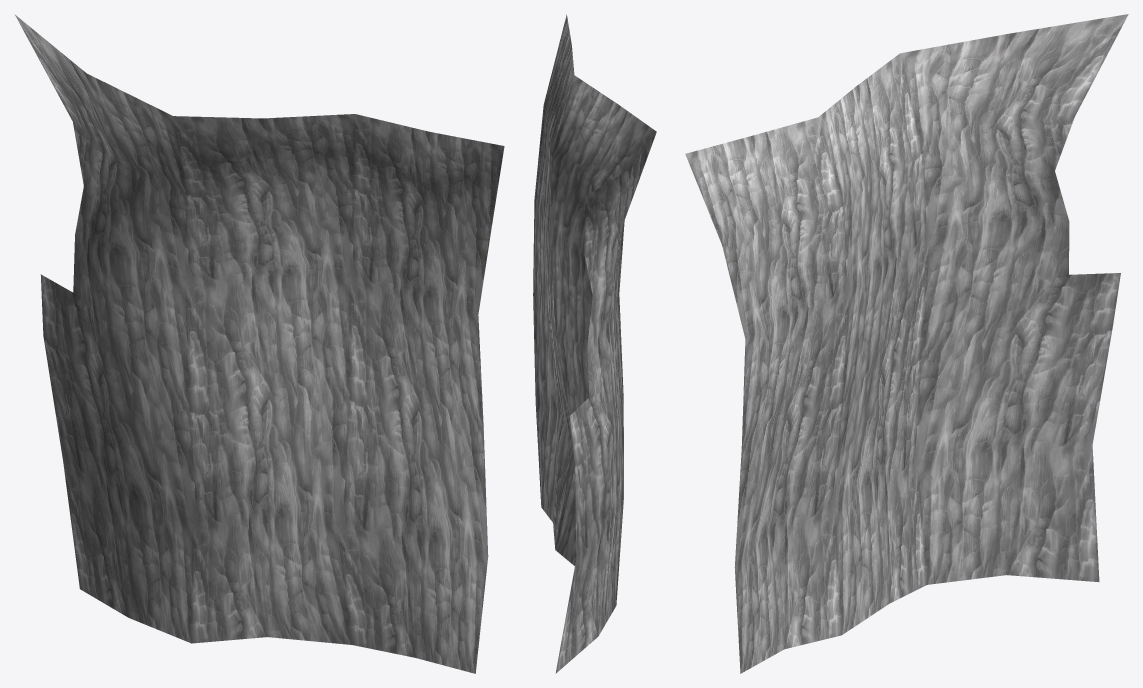
Rendered from SWORDLIGHT20_PS-AREA03_204.fbx.
3 renders of one model, left to right at view 1: azimuth 30°, elevation 25°; view 2: azimuth 150°, elevation 25°; view 3: azimuth 270°, elevation 25°, orthographic. The views are drawn at different scales.
Parts seen in each view (by area): view 1: SWORDLIGHT20_PS-AREA03_204; view 2: SWORDLIGHT20_PS-AREA03_204; view 3: SWORDLIGHT20_PS-AREA03_204.
Part boxes in pixels (box(x1,y1,x2,y2)): SWORDLIGHT20_PS-AREA03_204: box(15, 15, 504, 673); SWORDLIGHT20_PS-AREA03_204: box(533, 14, 656, 673); SWORDLIGHT20_PS-AREA03_204: box(685, 14, 1128, 673).
Size of the model in its own units: 107009 by 221699 by 163499.
Materials: 1 (1 with a texture image).
